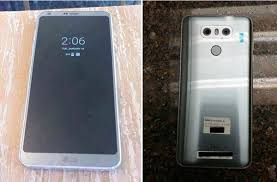lg: (19, 9, 127, 172)
